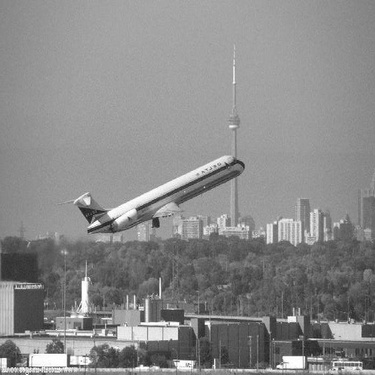airplane: (47, 144, 251, 249)
